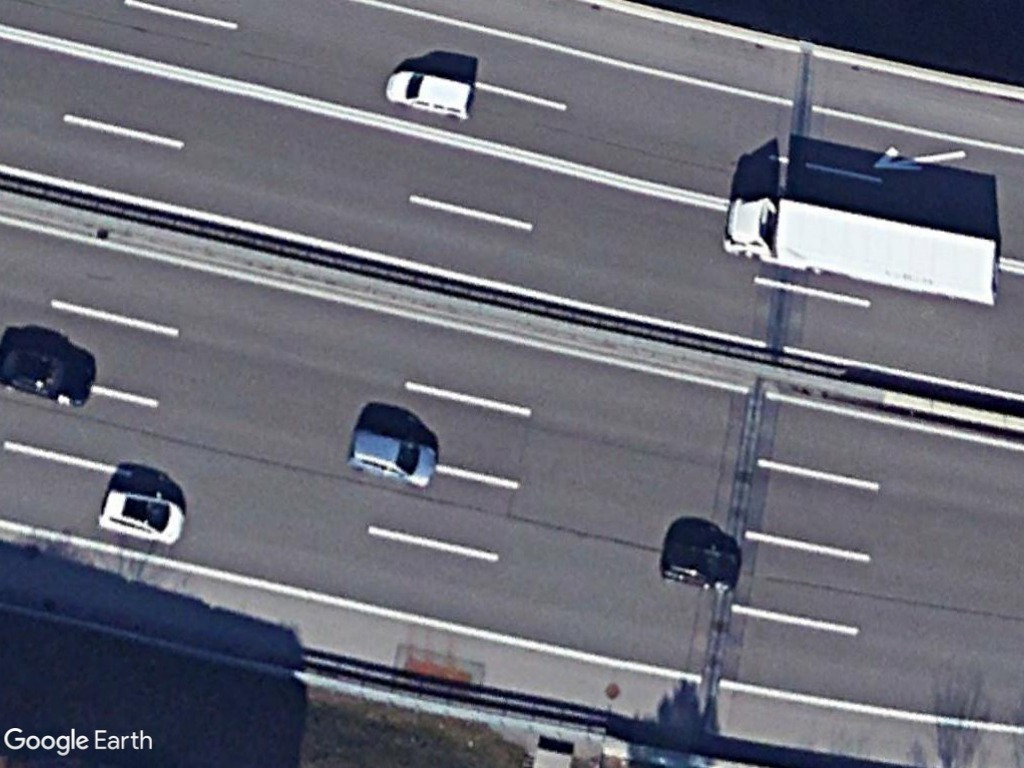car: (344, 427, 441, 490), (92, 488, 187, 549), (384, 68, 476, 120)
truck: (722, 195, 1004, 310)
